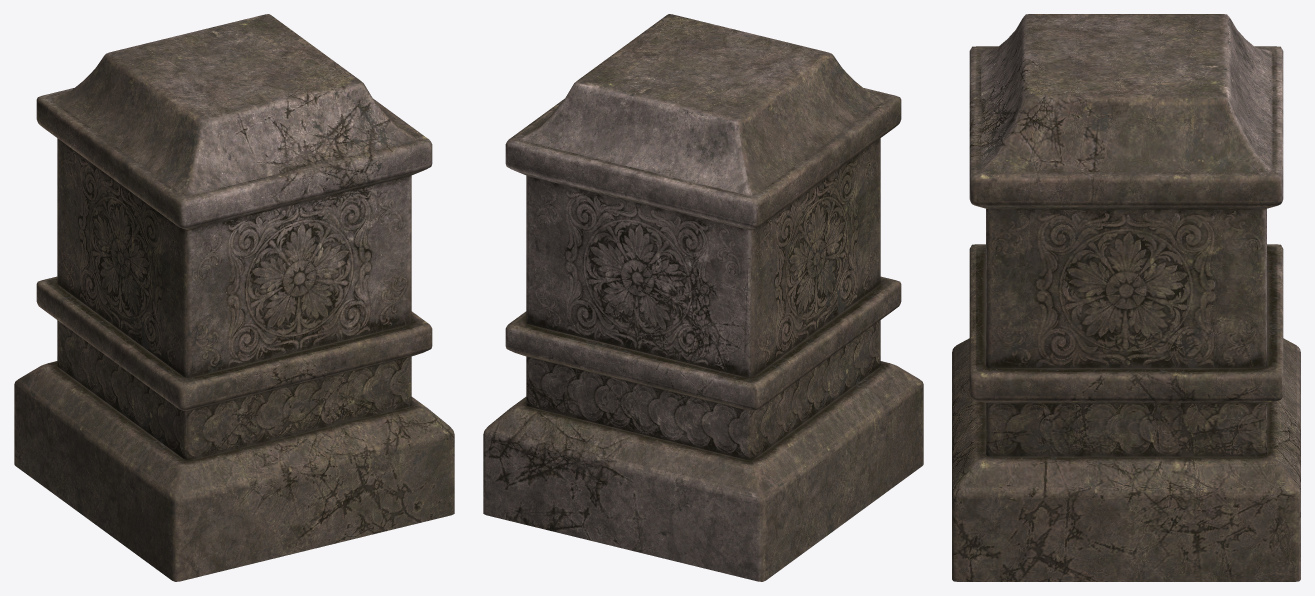
File: SM_gravestone_56.fbx
3 views of the same model, side by side, from view 1: azimuth 30°, elevation 25°; view 2: azimuth 150°, elevation 25°; view 3: azimuth 270°, elevation 25° (orthographic). The views are drawn at different scales.
Parts seen in each view (by area): view 1: SM_gravestone_056; view 2: SM_gravestone_056; view 3: SM_gravestone_056.
Boxes of the visible parts, x1=… form: SM_gravestone_056: x1=14, y1=14, x2=454, y2=581; SM_gravestone_056: x1=483, y1=14, x2=923, y2=581; SM_gravestone_056: x1=952, y1=14, x2=1300, y2=581.
Size of the model in its own units: 99.49 by 142 by 99.49.
